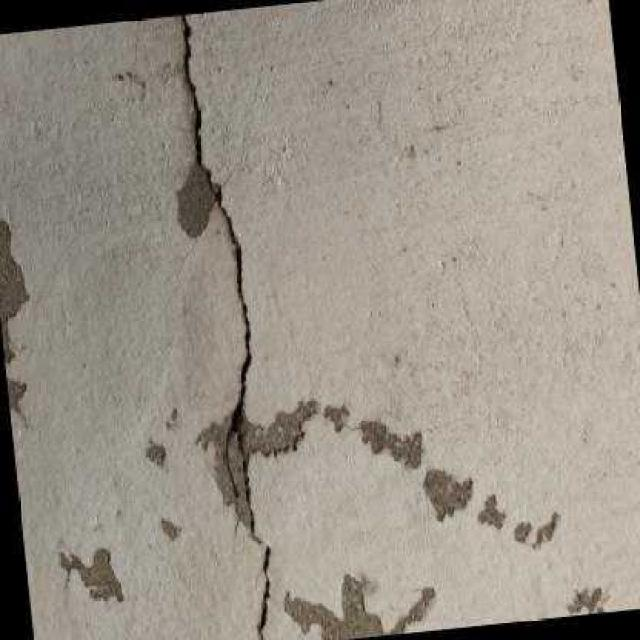D00: (179, 12, 269, 640)
